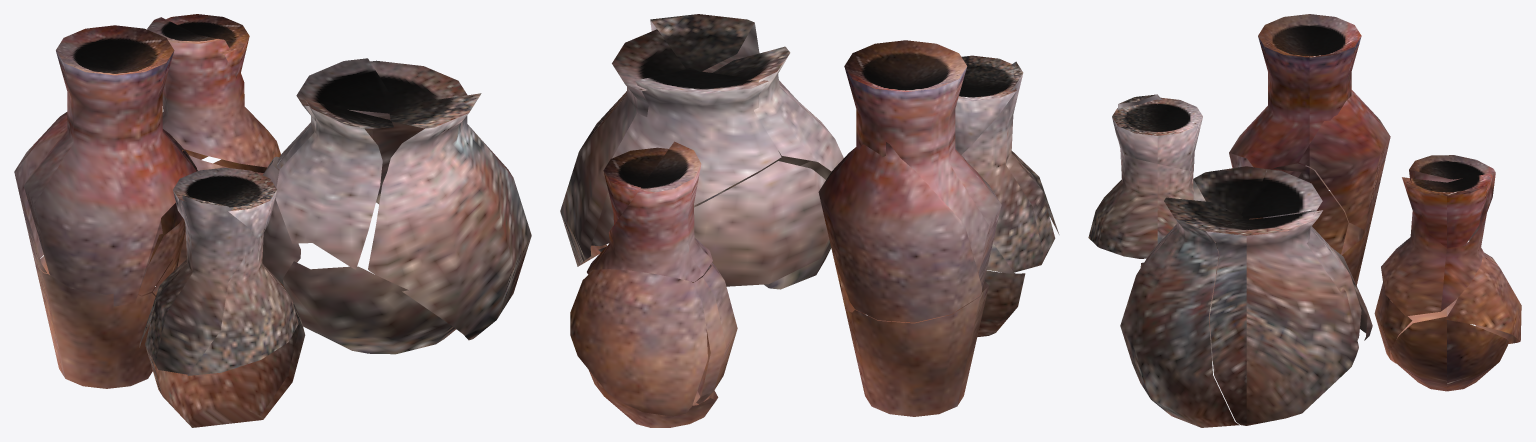
Rendered from pots_cracked.fbx.
The picture shows the model from 3 angles, left to right: view 1: azimuth 30°, elevation 25°; view 2: azimuth 150°, elevation 25°; view 3: azimuth 270°, elevation 25°; orthographic projection. The views are drawn at different scales.
Visible parts, largest first — view 1: PotsCracked_cell.023, PotsCracked_cell.026, PotsCracked_cell.036, PotsCracked, PotsCracked_cell.033, PotsCracked_cell.044, PotsCracked_cell.022, PotsCracked_cell.045, PotsCracked_cell.034, PotsCracked_cell.031, PotsCracked_cell.040, PotsCracked_cell.039 (+5 smaller); view 2: PotsCracked_cell.035, PotsCracked_cell.023, PotsCracked_cell.032, PotsCracked_cell.031, PotsCracked_cell.025, PotsCracked_cell.022, PotsCracked_cell.033, PotsCracked_cell.039, PotsCracked, PotsCracked_cell.036, PotsCracked_cell.026, PotsCracked_cell.040 (+6 smaller); view 3: PotsCracked_cell.039, PotsCracked_cell.026, PotsCracked_cell.023, PotsCracked_cell.033, PotsCracked_cell.035, PotsCracked_cell.045, PotsCracked_cell.024, PotsCracked_cell.040, PotsCracked_cell.031, PotsCracked_cell.028, PotsCracked_cell.032, PotsCracked_cell.036 (+4 smaller).
Boxes of the visible parts, x1,y1,x2,y2 form: PotsCracked_cell.023: [24, 25, 197, 306]; PotsCracked_cell.026: [368, 93, 531, 340]; PotsCracked_cell.036: [275, 99, 393, 269]; PotsCracked: [145, 195, 257, 374]; PotsCracked_cell.033: [147, 17, 280, 167]; PotsCracked_cell.044: [283, 261, 456, 354]; PotsCracked_cell.022: [35, 256, 155, 388]; PotsCracked_cell.045: [139, 233, 298, 375]; PotsCracked_cell.034: [146, 304, 305, 427]; PotsCracked_cell.031: [276, 58, 398, 169]; PotsCracked_cell.040: [173, 167, 276, 238]; PotsCracked_cell.039: [362, 60, 467, 204]; PotsCracked_cell.035: [818, 142, 981, 322]; PotsCracked_cell.023: [844, 40, 1001, 300]; PotsCracked_cell.032: [570, 269, 707, 416]; PotsCracked_cell.031: [591, 68, 781, 245]; PotsCracked_cell.025: [598, 161, 829, 286]; PotsCracked_cell.022: [846, 280, 988, 416]; PotsCracked_cell.033: [587, 141, 712, 282]; PotsCracked_cell.039: [560, 29, 685, 266]; PotsCracked: [961, 61, 1055, 272]; PotsCracked_cell.036: [713, 46, 843, 171]; PotsCracked_cell.026: [650, 14, 818, 207]; PotsCracked_cell.040: [955, 55, 1016, 154]; PotsCracked_cell.039: [1205, 210, 1358, 425]; PotsCracked_cell.026: [1120, 197, 1247, 427]; PotsCracked_cell.023: [1229, 14, 1361, 177]; PotsCracked_cell.033: [1381, 155, 1495, 316]; PotsCracked_cell.035: [1299, 90, 1390, 231]; PotsCracked_cell.045: [1088, 155, 1215, 258]; PotsCracked_cell.024: [1390, 316, 1508, 391]; PotsCracked_cell.040: [1112, 97, 1202, 171]; PotsCracked_cell.031: [1241, 169, 1361, 339]; PotsCracked_cell.028: [1402, 173, 1492, 248]; PotsCracked_cell.032: [1445, 242, 1521, 343]; PotsCracked_cell.036: [1193, 166, 1266, 240].
Bounding box in the file's own units: 0.9836 × 0.6917 × 0.9762.
